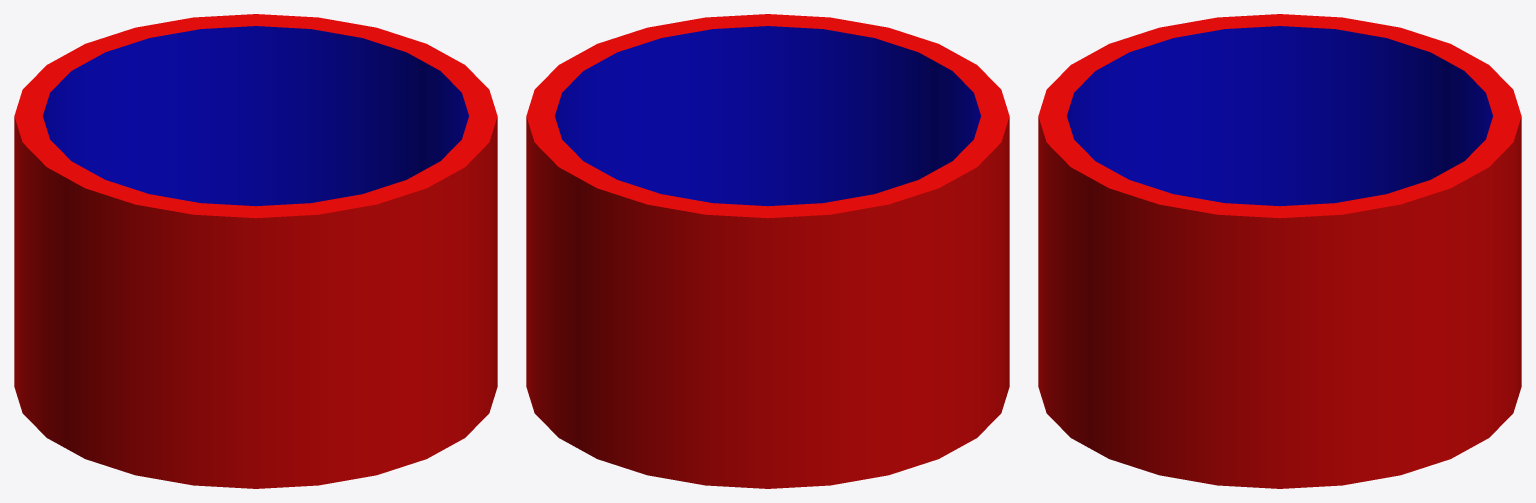
Rendered from Tube_Std.FBX.
The picture shows the model from 3 angles, left to right: view 1: azimuth 30°, elevation 25°; view 2: azimuth 150°, elevation 25°; view 3: azimuth 270°, elevation 25°; orthographic projection.
Parts seen in each view (by area): view 1: Tube_Std; view 2: Tube_Std; view 3: Tube_Std.
Boxes of the visible parts, x1,y1,x2,y2 form: Tube_Std: [14, 14, 497, 488]; Tube_Std: [526, 14, 1009, 488]; Tube_Std: [1038, 14, 1521, 488].
Bounding box in the file's own units: 4.14 × 2.56 × 4.14.
